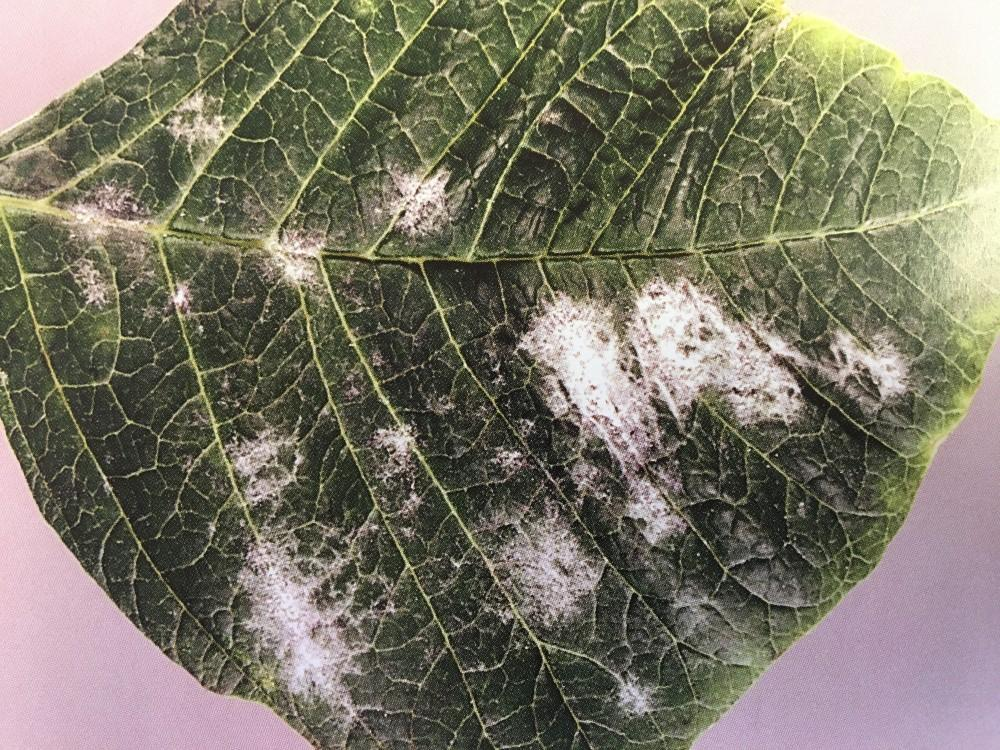pseudococcidae: (53, 75, 933, 738)
